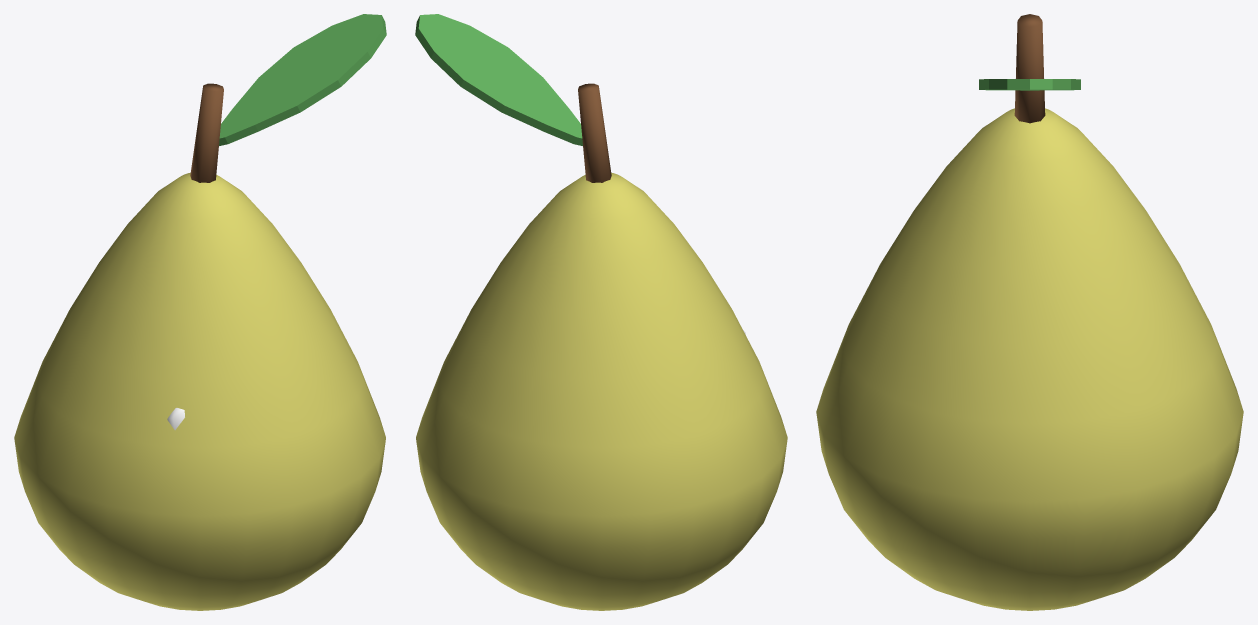
Rendered from fruit-pear.glb.
3 renders of one model, left to right at view 1: azimuth 30°, elevation 25°; view 2: azimuth 150°, elevation 25°; view 3: azimuth 270°, elevation 25°, orthographic. The views are drawn at different scales.
Visible parts, largest first — view 1: fruit; view 2: fruit; view 3: fruit.
Boxes of the visible parts, x1,y1,x2,y2 form: fruit: (14,14,386,610); fruit: (415,14,787,610); fruit: (816,14,1243,610).
Size of the model in its own units: 0.2579 by 0.3794 by 0.24.
